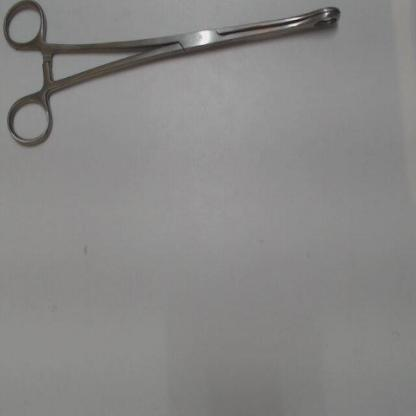Sponge Forceps: (0, 0, 353, 153)
